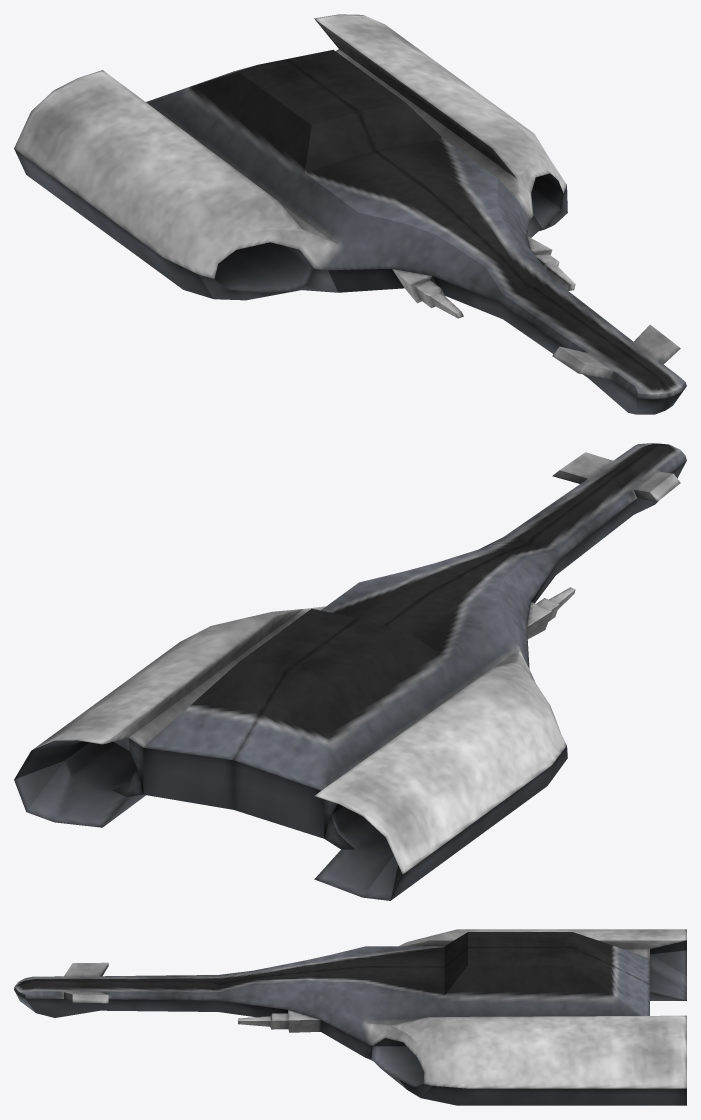
The model's file is Repubblica_1.fbx.
3 views of the same model, one above another, from view 1: azimuth 30°, elevation 25°; view 2: azimuth 150°, elevation 25°; view 3: azimuth 270°, elevation 25° (orthographic). The views are drawn at different scales.
Visible parts, largest first — view 1: Texture, Colore1; view 2: Texture, Colore1; view 3: Texture, Colore1.
Part boxes in pixels (box(x1,y1,x2,y2)): Texture: box(14, 49, 686, 414); Colore1: box(14, 14, 680, 378); Texture: box(14, 443, 686, 900); Colore1: box(32, 452, 680, 874); Texture: box(14, 932, 686, 1105); Colore1: box(64, 929, 686, 1088).
Bounding box in the file's own units: 1.96 × 0.635 × 4.03.
2 materials, 2 textured.
